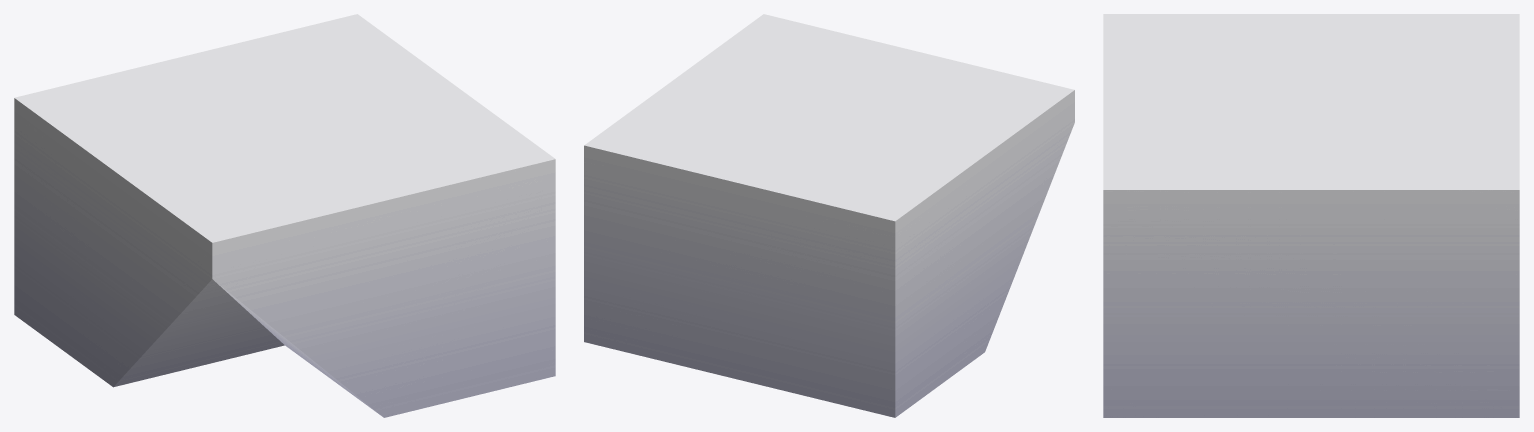
File: brick-kit--none-lq-brick-slope-corner-inside-inverted-2x2.glb
3 renders of one model, left to right at view 1: azimuth 30°, elevation 25°; view 2: azimuth 150°, elevation 25°; view 3: azimuth 270°, elevation 25°, orthographic. The views are drawn at different scales.
Parts seen in each view (by area): view 1: none-lq-brick-slope-corner-inside-inverted-2x2; view 2: none-lq-brick-slope-corner-inside-inverted-2x2; view 3: none-lq-brick-slope-corner-inside-inverted-2x2.
Boxes of the visible parts, left/top/right/bottom form: none-lq-brick-slope-corner-inside-inverted-2x2: left=14, top=14, right=555, bottom=417; none-lq-brick-slope-corner-inside-inverted-2x2: left=584, top=14, right=1074, bottom=417; none-lq-brick-slope-corner-inside-inverted-2x2: left=1103, top=14, right=1519, bottom=417.
Bounding box in the file's own units: 0.159 × 0.096 × 0.159.
Materials: 1 (1 with a texture image).
